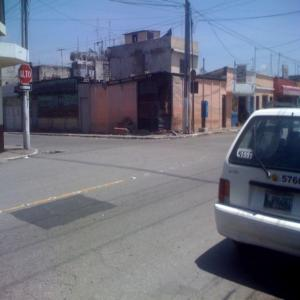Vehicle-registration-plate: (264, 189, 296, 214)
